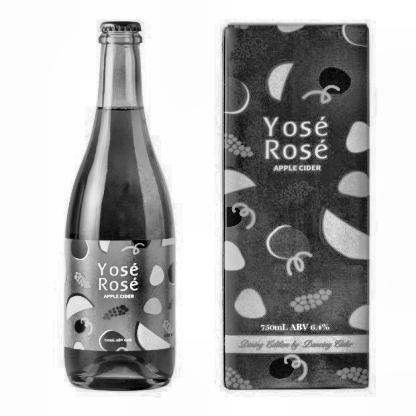yoserose: (68, 242, 174, 346)
